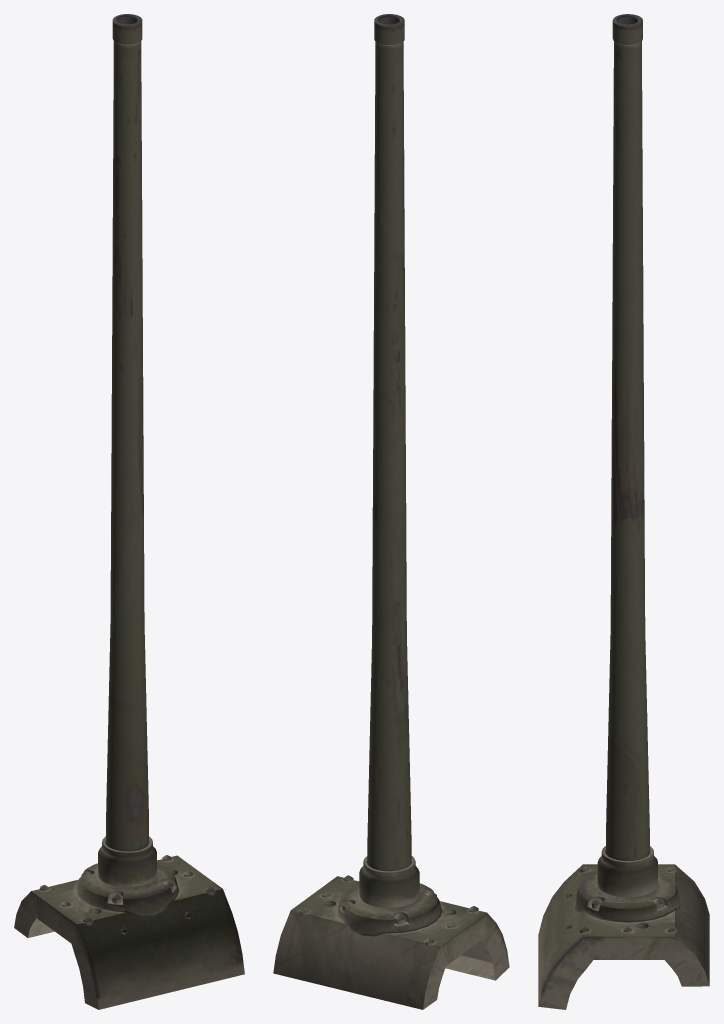
File: Gun_06.glb
3 renders of one model, left to right at view 1: azimuth 30°, elevation 25°; view 2: azimuth 150°, elevation 25°; view 3: azimuth 270°, elevation 25°, orthographic. The views are drawn at different scales.
Visible parts, largest first — view 1: set_0_group_0; view 2: set_0_group_0; view 3: set_0_group_0.
Part boxes in pixels (x1,y1,x2,y2): set_0_group_0: (14, 14, 244, 1009); set_0_group_0: (273, 14, 509, 1009); set_0_group_0: (538, 14, 709, 1009).
Size of the model in its own units: 0.6984 by 4.3 by 0.7001.
Materials: 1 (1 with a texture image).
